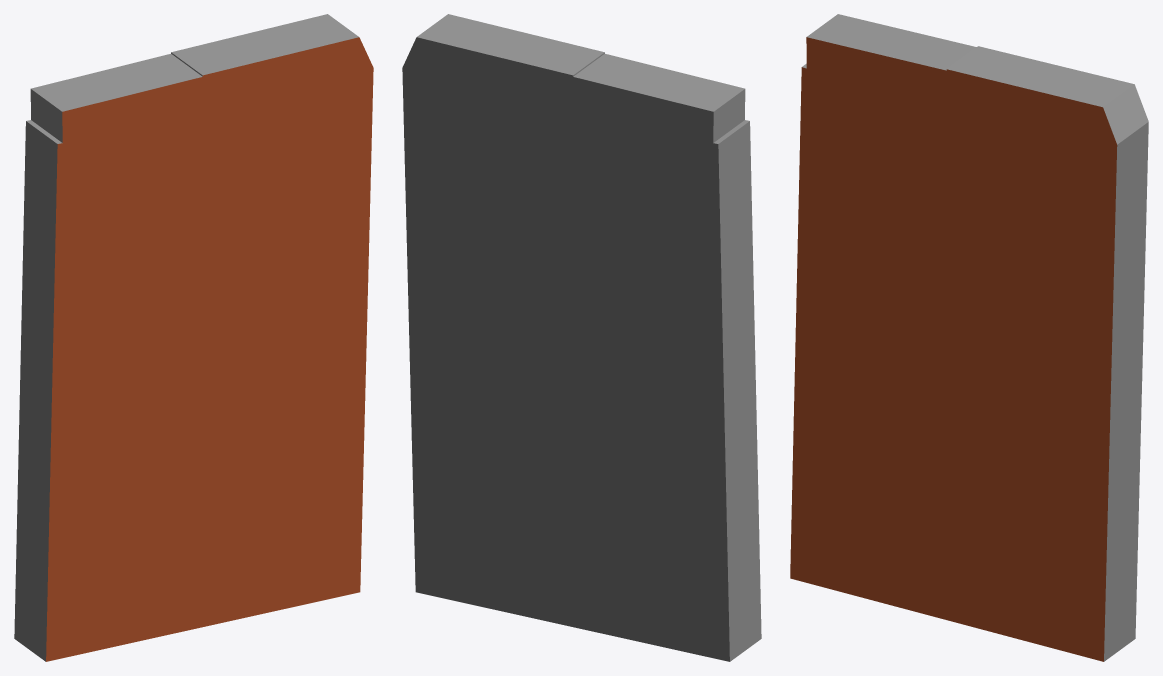
File: construction_0048_assumed_A_Cemiterio_h6m.obj
3 views of the same model, side by side, from view 1: azimuth 30°, elevation 25°; view 2: azimuth 150°, elevation 25°; view 3: azimuth 330°, elevation 25° (orthographic).
Visible parts, largest first — view 1: construction_0048_assumed_A_Cemiterio; view 2: construction_0048_assumed_A_Cemiterio; view 3: construction_0048_assumed_A_Cemiterio.
Part boxes in pixels (x1,y1,x2,y2): construction_0048_assumed_A_Cemiterio: [14, 14, 373, 661]; construction_0048_assumed_A_Cemiterio: [402, 14, 761, 661]; construction_0048_assumed_A_Cemiterio: [790, 14, 1148, 661].
Bounding box in the file's own units: 35.85 × 58.07 × 6.
